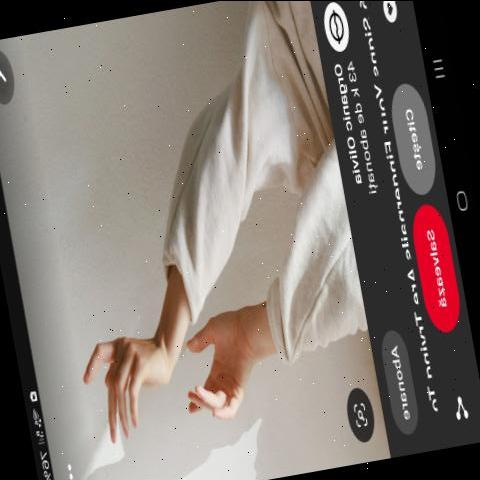Hands: (77, 311, 169, 464), (183, 283, 260, 444)
